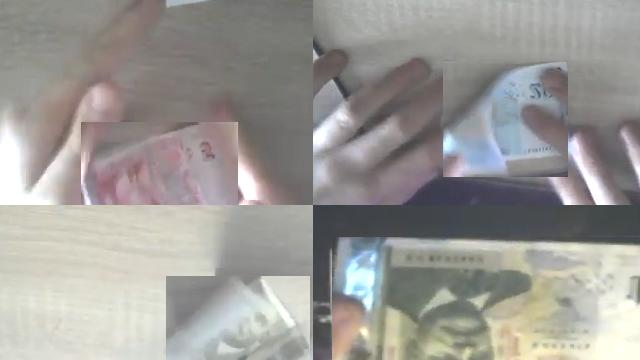10leva: (350, 237, 640, 360), (166, 276, 310, 360)
20leva: (443, 61, 568, 177)
5leva: (81, 122, 236, 205)
